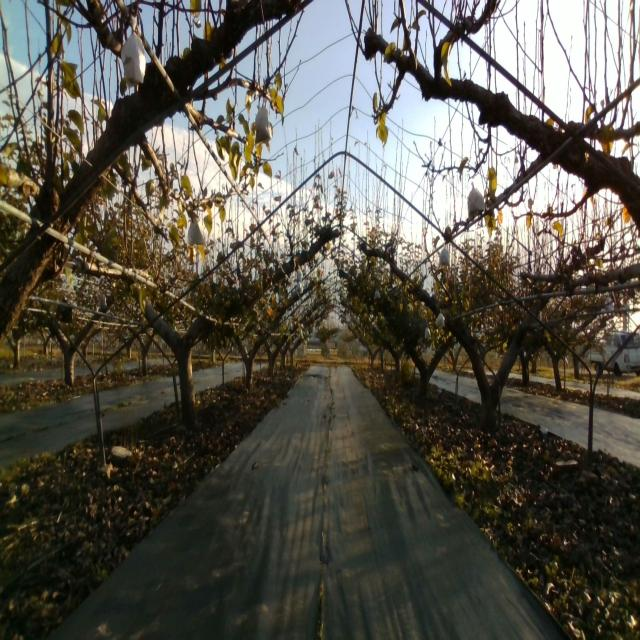pearbags: (121, 15, 146, 87), (254, 96, 272, 144), (468, 180, 487, 219), (186, 216, 207, 246), (438, 243, 451, 267)
